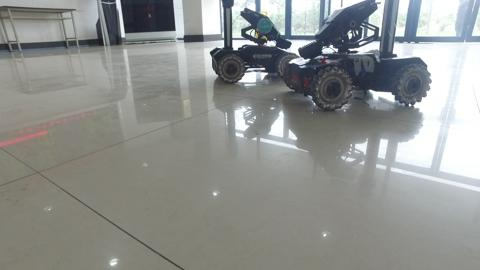chariot: (285, 1, 431, 113), (201, 1, 300, 84)
